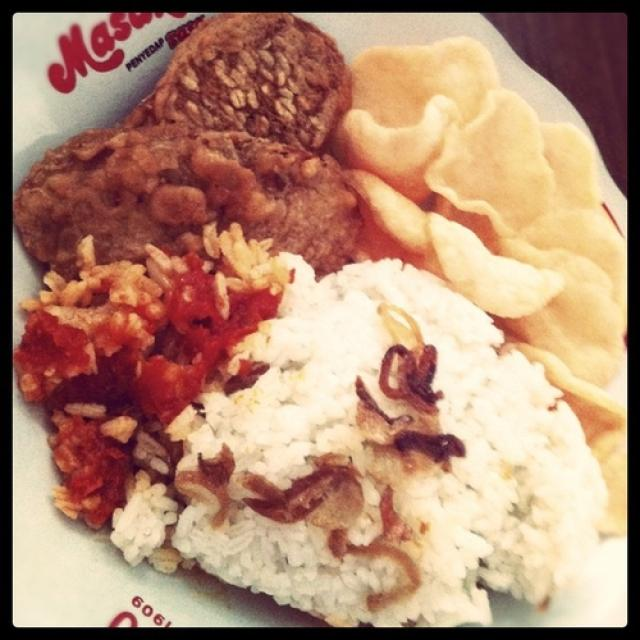米饭主食: (33, 37, 608, 602)
